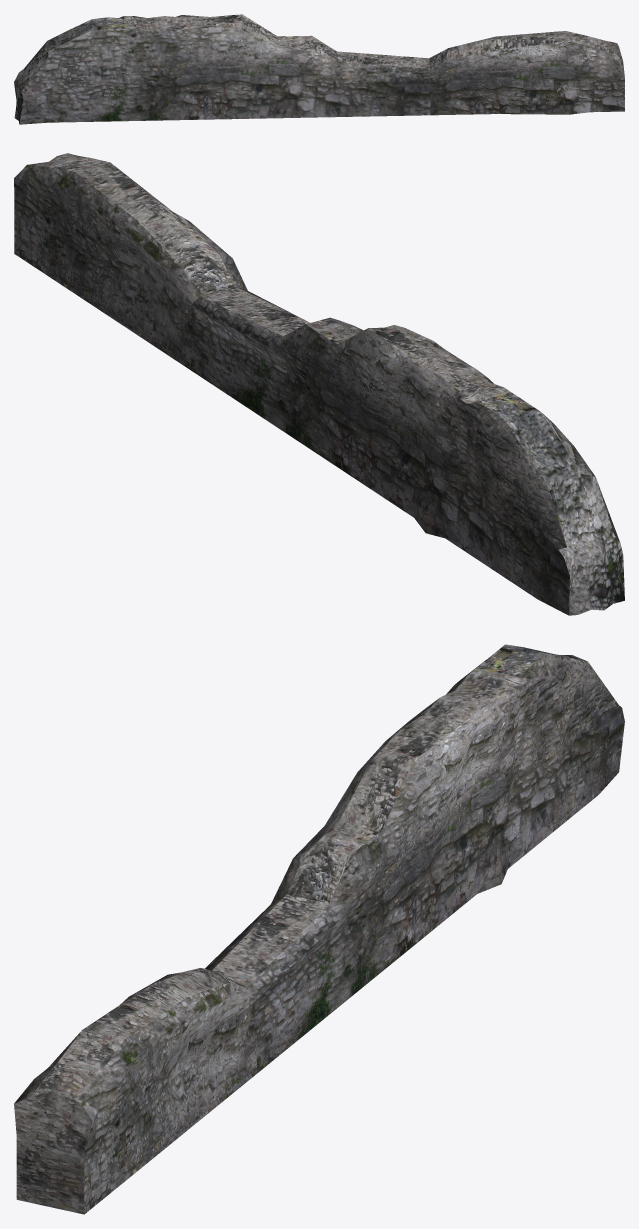
The model's file is castleruins piece seven.fbx.
3 renders of one model, top to bottom at view 1: azimuth 30°, elevation 25°; view 2: azimuth 150°, elevation 25°; view 3: azimuth 270°, elevation 25°, orthographic. The views are drawn at different scales.
Visible parts, largest first — view 1: castleruins_seven; view 2: castleruins_seven; view 3: castleruins_seven.
Boxes of the visible parts, <box> form: castleruins_seven: <box>14,14,624,124</box>; castleruins_seven: <box>14,153,624,615</box>; castleruins_seven: <box>14,644,624,1214</box>.
Size of the model in its own units: 773 by 142 by 437.
3 materials, 3 textured.
